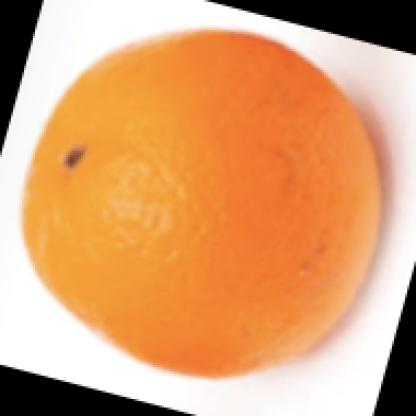fresh: (23, 31, 383, 376)
